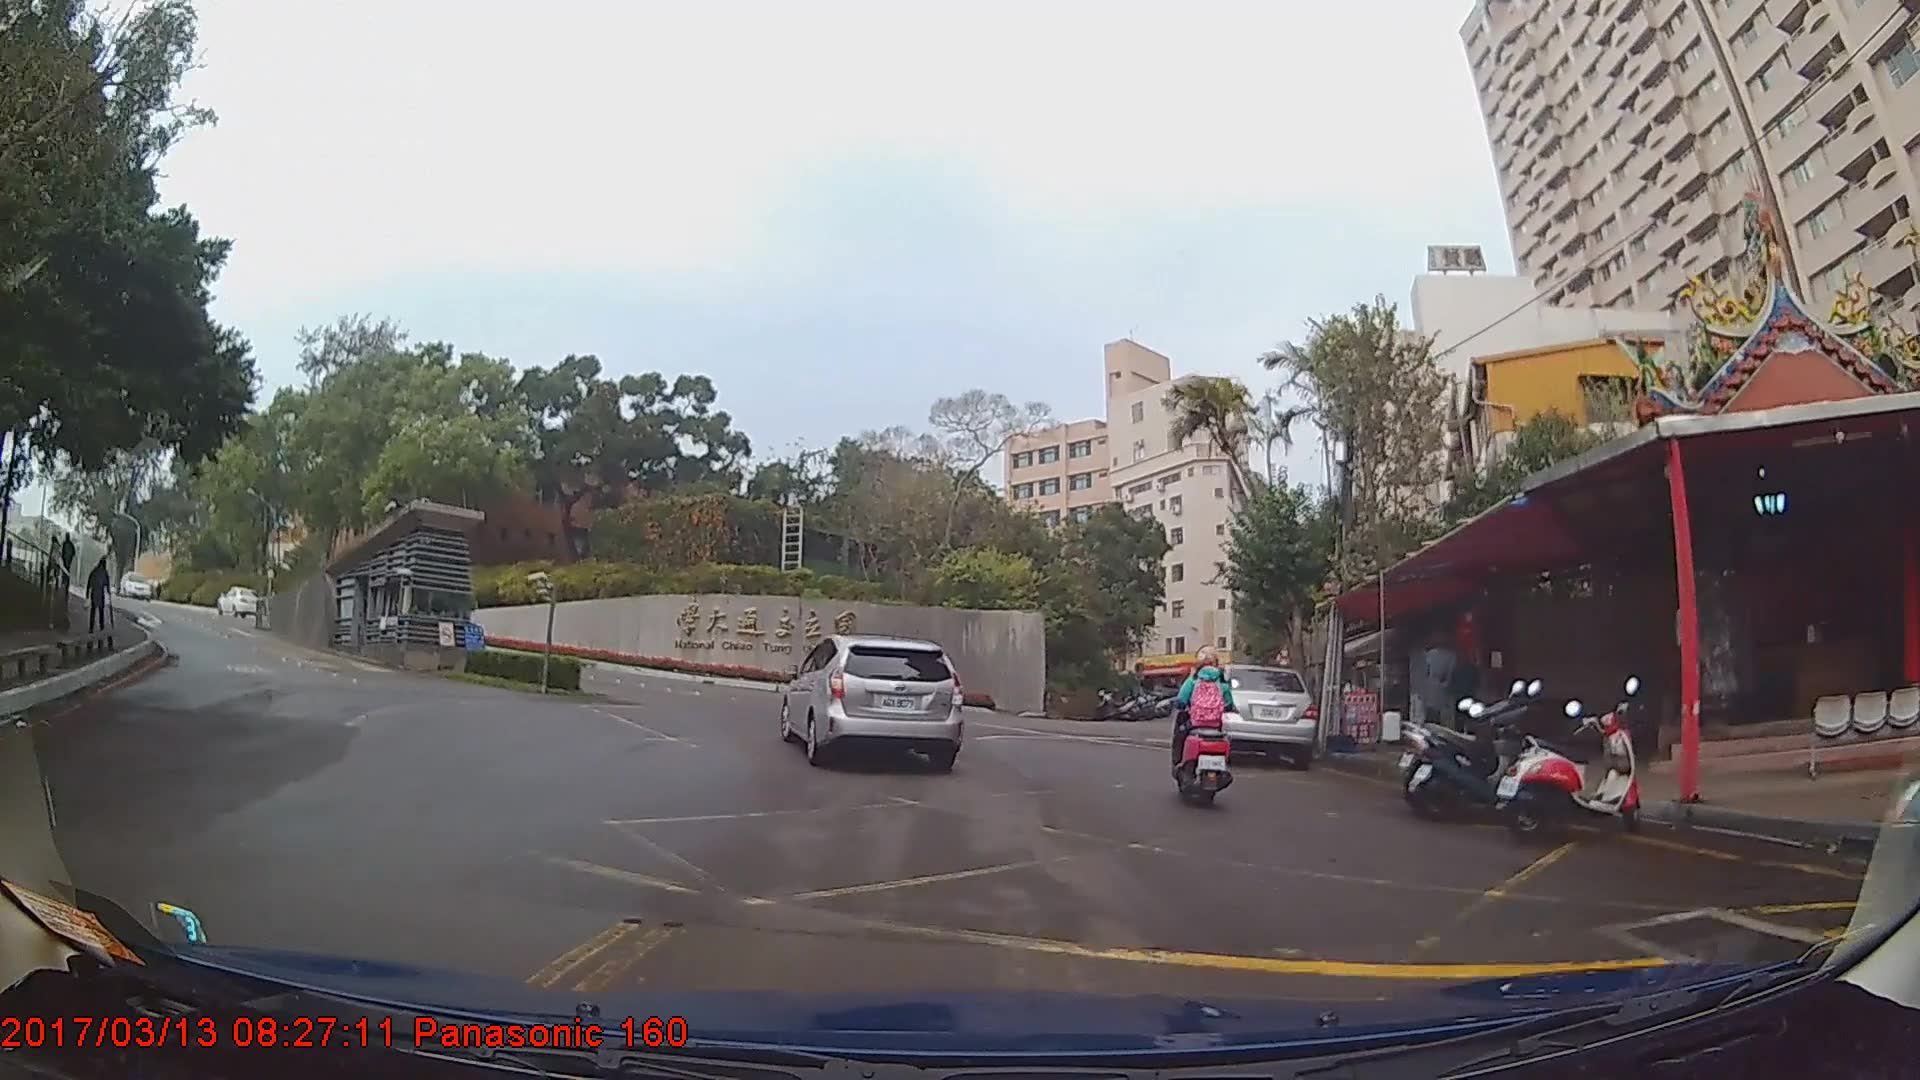pedestrian: (1445, 642, 1485, 757), (85, 557, 115, 636), (58, 531, 78, 593), (44, 536, 65, 590)
rider: (1165, 653, 1241, 817)
vehicle: (778, 632, 963, 772), (1188, 661, 1320, 769), (219, 587, 257, 617), (116, 571, 153, 601)
